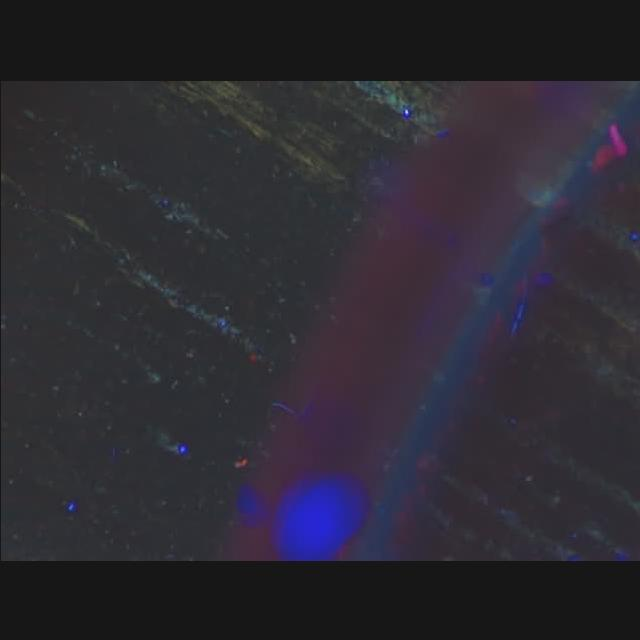Fragment: (591, 119, 627, 169)
